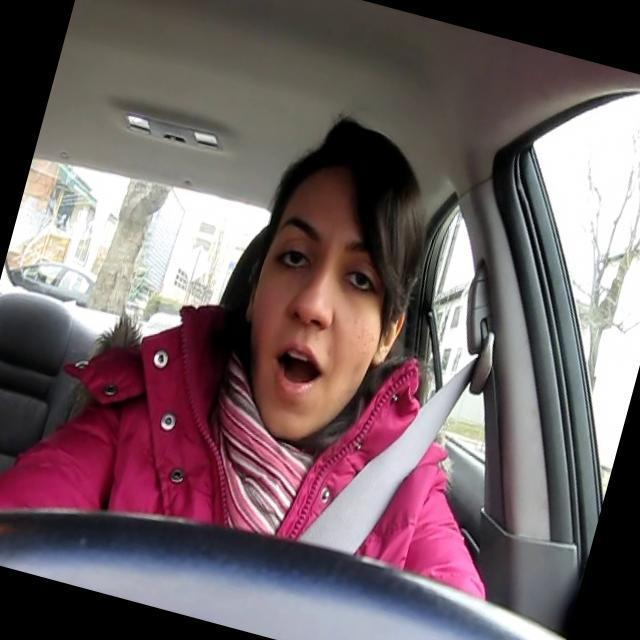open-mouth: (274, 342, 324, 394)
